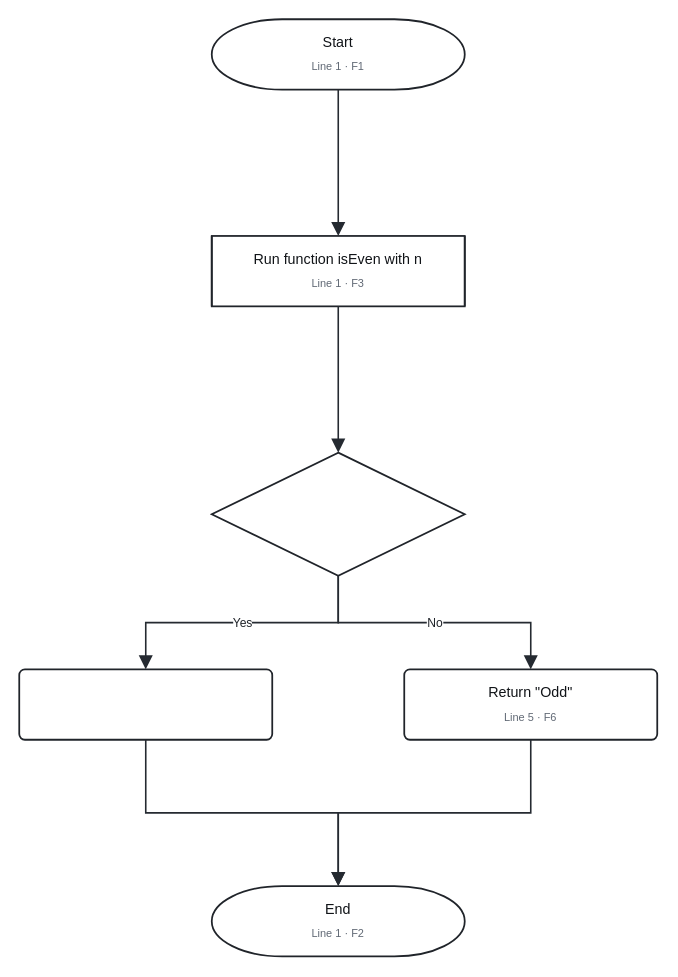
The diagram is 678 pixels wide and 977 high, and some of its shapes have lost their labels. The shapes that lost their labels are listed below. From the top down, each one's box as (x1, y1, x2, y2) in pixels, then its label:
(210, 451, 465, 576): N modulo 2 is equal to 0? Line 2 · F4
(18, 668, 273, 740): Return "Even" Line 3 · F5
